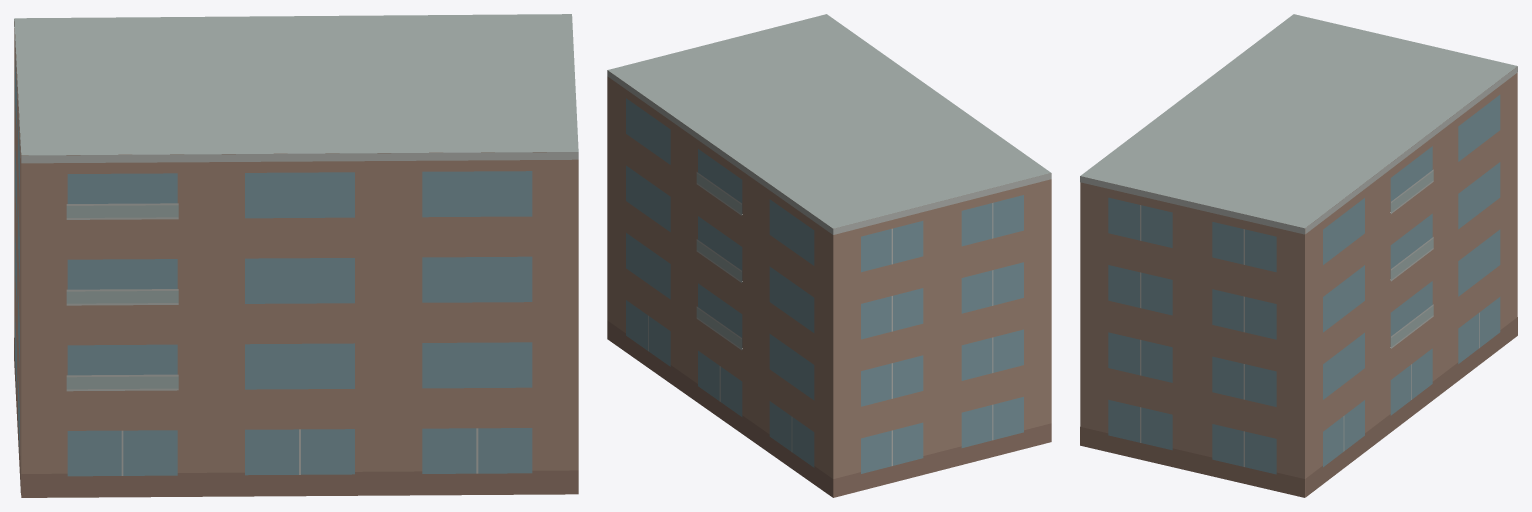
Rendered from survey-upis-32847821.glb.
3 renders of one model, left to right at view 1: azimuth 30°, elevation 25°; view 2: azimuth 150°, elevation 25°; view 3: azimuth 270°, elevation 25°, orthographic. The views are drawn at different scales.
Visible parts, largest first — view 1: survey-upis-32847821.tmp; view 2: survey-upis-32847821.tmp; view 3: survey-upis-32847821.tmp.
Part boxes in pixels (x1,y1,x2,y2): survey-upis-32847821.tmp: [14, 14, 578, 497]; survey-upis-32847821.tmp: [607, 14, 1051, 497]; survey-upis-32847821.tmp: [1080, 14, 1517, 497].
Size of the model in its own units: 17.91 by 10.5 by 15.46.
